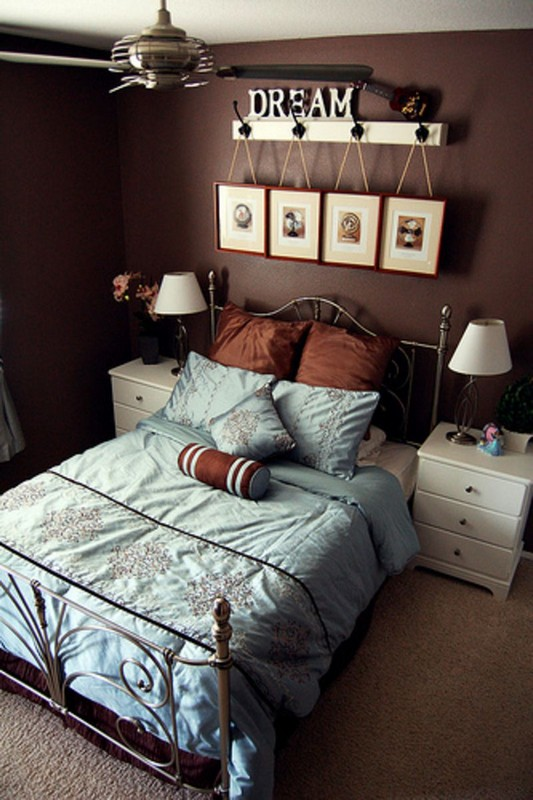bed: (16, 266, 450, 793)
lamp: (447, 312, 512, 451), (150, 267, 211, 373)
stool: (410, 416, 531, 611), (104, 347, 188, 444)
